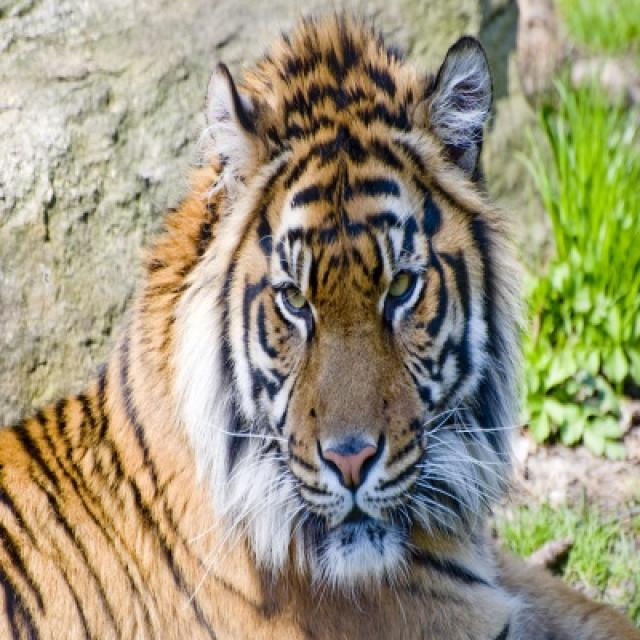Tiger: (9, 14, 628, 628)
